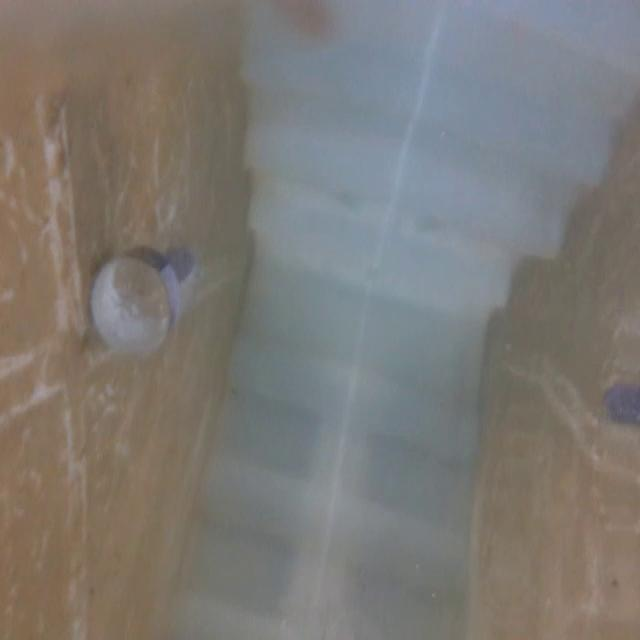plastic bottle: (81, 232, 220, 356)
